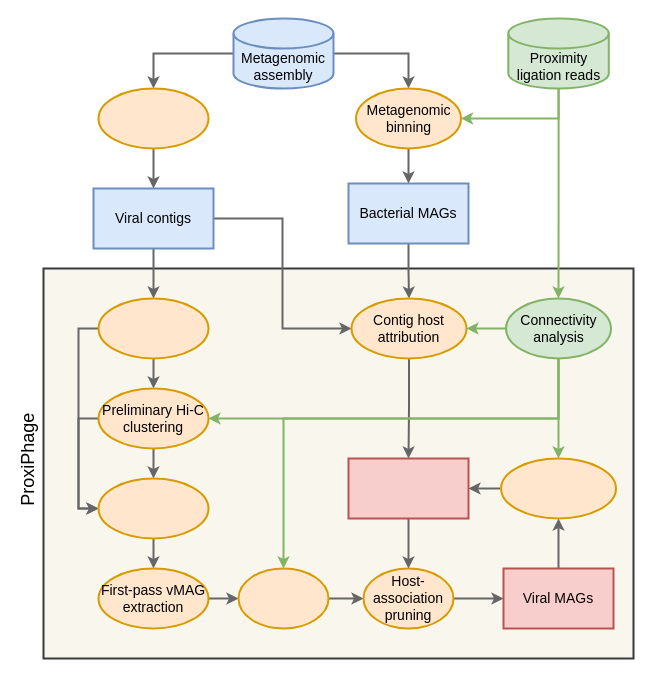
Image size: 652x676. Some labels were removed from this diagram. The shapes that lost their labels are listed below. From the top down, each one's centre as x and y in pixels, then its label:
point 153,118: Virus annotation
point 153,328: Preliminary metagenomic binning
point 153,508: Overlap network collapse
point 408,488: Bacterial hosts
point 558,488: vMAG host attribution
point 283,598: Hi-C connectivity pruning
